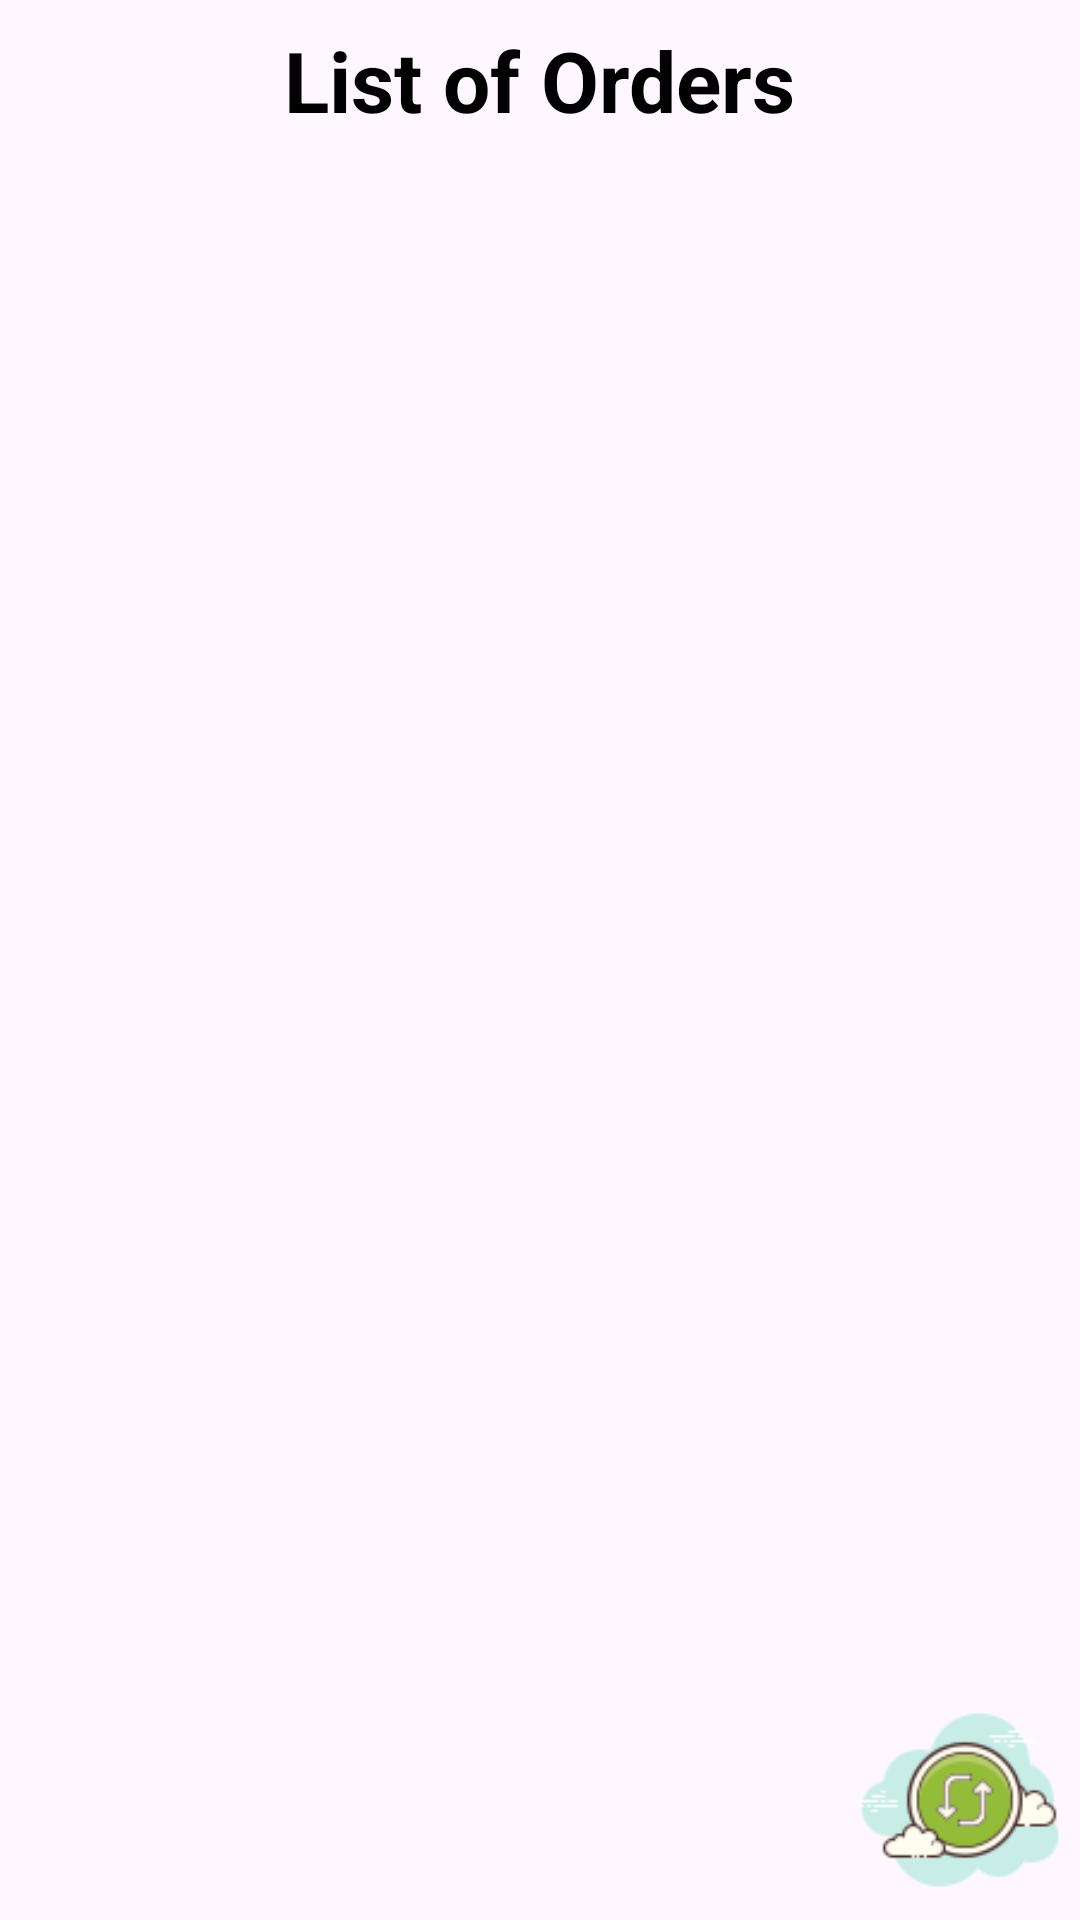

Locate icon controls on the screen. Image size 1080px×1920px, boxes as (x1, y1, x2, y2).
refresh: (861, 1713, 1058, 1887)
